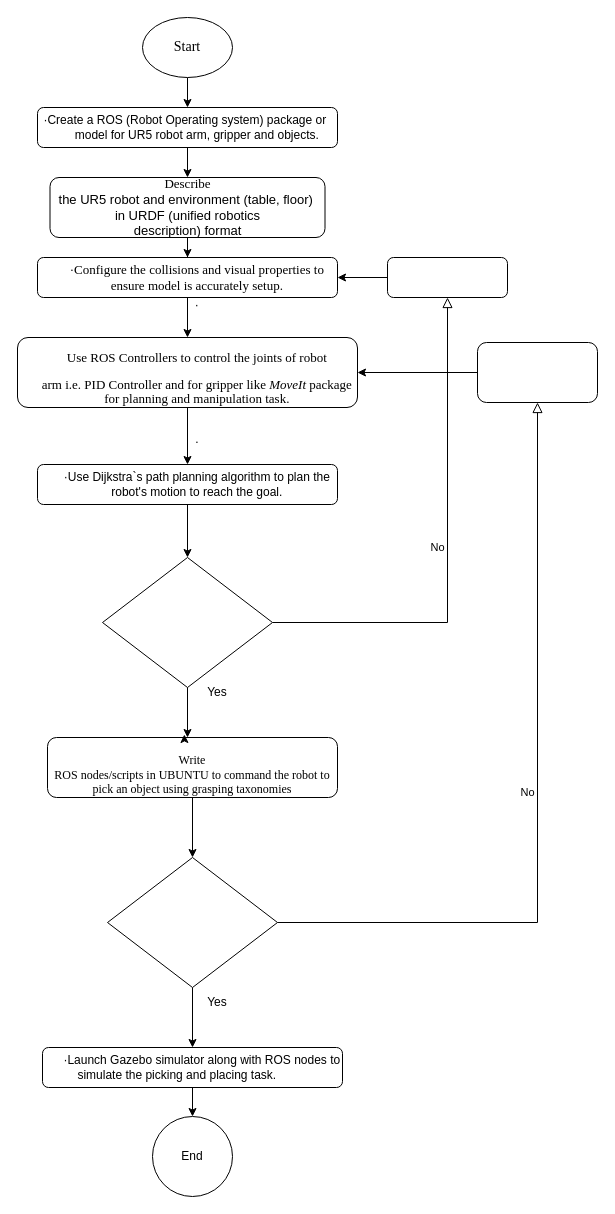
This 615x1214 diagram has some shape labels left out. The shapes that lost their labels are listed below. From the top down, each one's centre as x and y in pixels, then its label:
At pixel 447 277: "Configure Work space".
At pixel 537 372: "Adjust Gain of PID Controller".
At pixel 187 622: "Is path planning Algorithm working Properly?".
At pixel 192 922: "Is robot arm reaching the final destination object accurately?".
